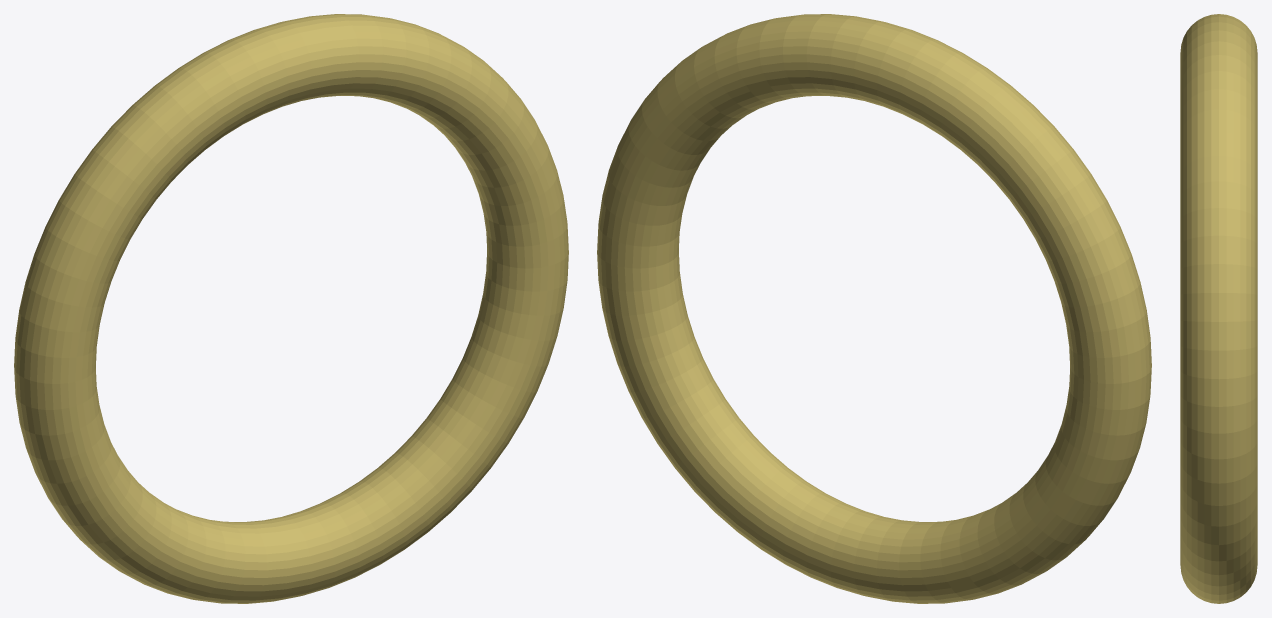
The model's file is ring.glb.
3 views of the same model, side by side, from view 1: azimuth 30°, elevation 25°; view 2: azimuth 150°, elevation 25°; view 3: azimuth 270°, elevation 25° (orthographic). The views are drawn at different scales.
Parts seen in each view (by area): view 1: world; view 2: world; view 3: world.
Part boxes in pixels (left/top/right/bottom): world: left=14, top=14, right=568, bottom=603; world: left=597, top=14, right=1151, bottom=603; world: left=1180, top=14, right=1257, bottom=603.
Size of the model in its own units: 2.3 by 2.3 by 0.3.
